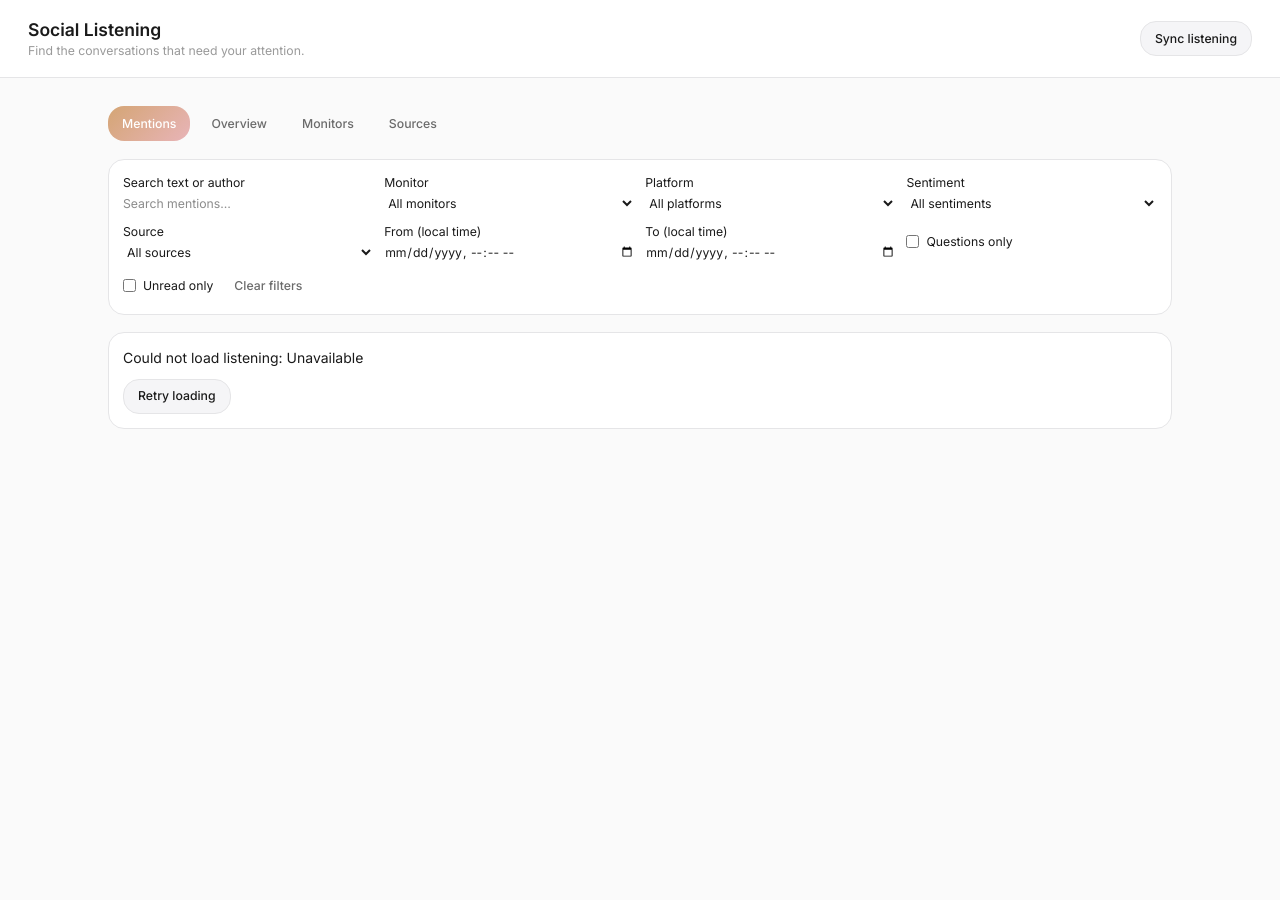
Test: listening workspace › offers fetch retry and shows partial sync stage failures
The width and height of the screenshot is (1280, 900).
Expected: the text "Could not load listening: Unavailable" is shown, x1=123 y1=349 x2=363 y2=366
Step 1. Click the button "Retry loading" → (177, 396), box x1=123 y1=378 x2=231 y2=414
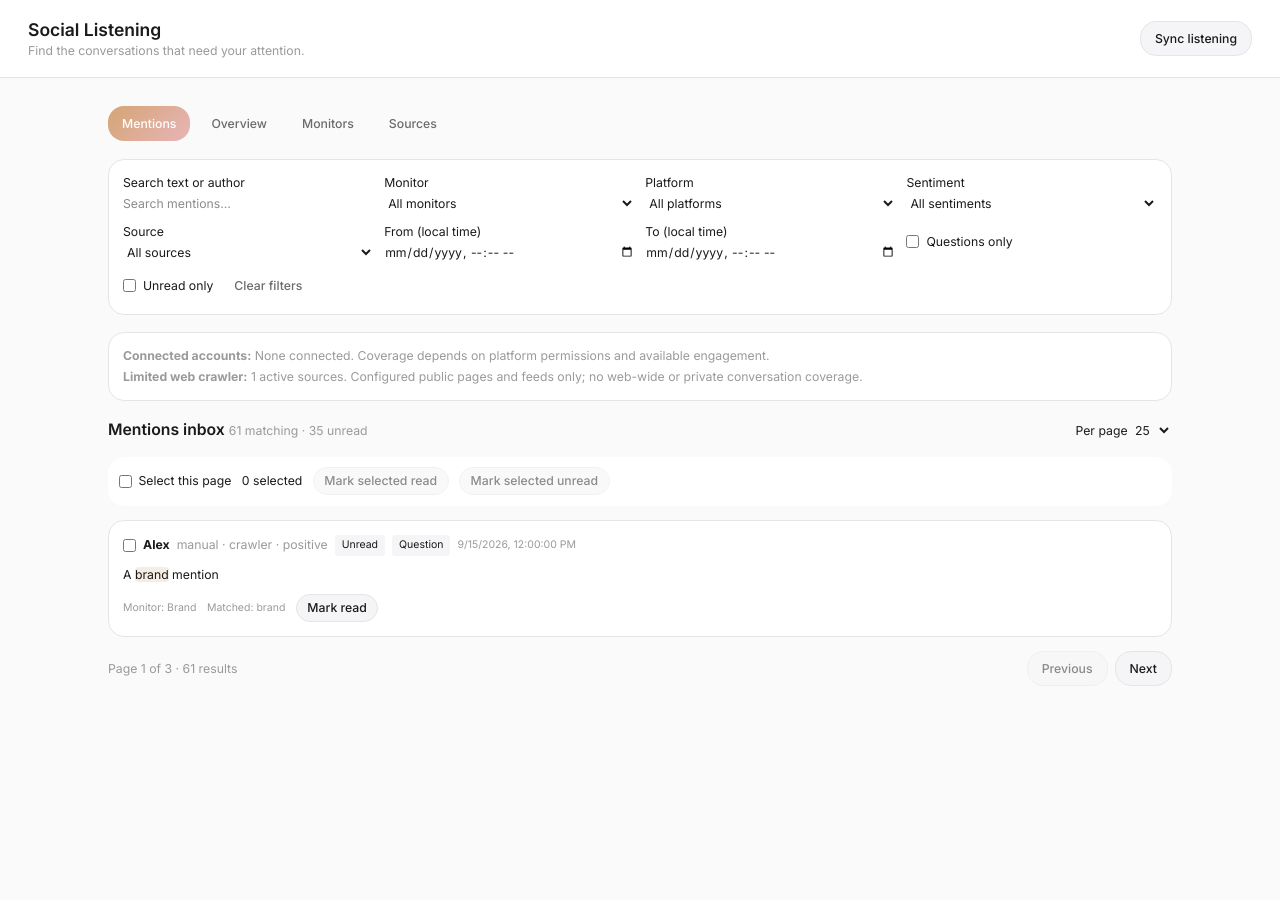
Expected: the text "Alex" is shown, x1=143 y1=536 x2=170 y2=554
Step 2. Click the button "Sync listening" → (1196, 38), box x1=1140 y1=21 x2=1252 y2=56
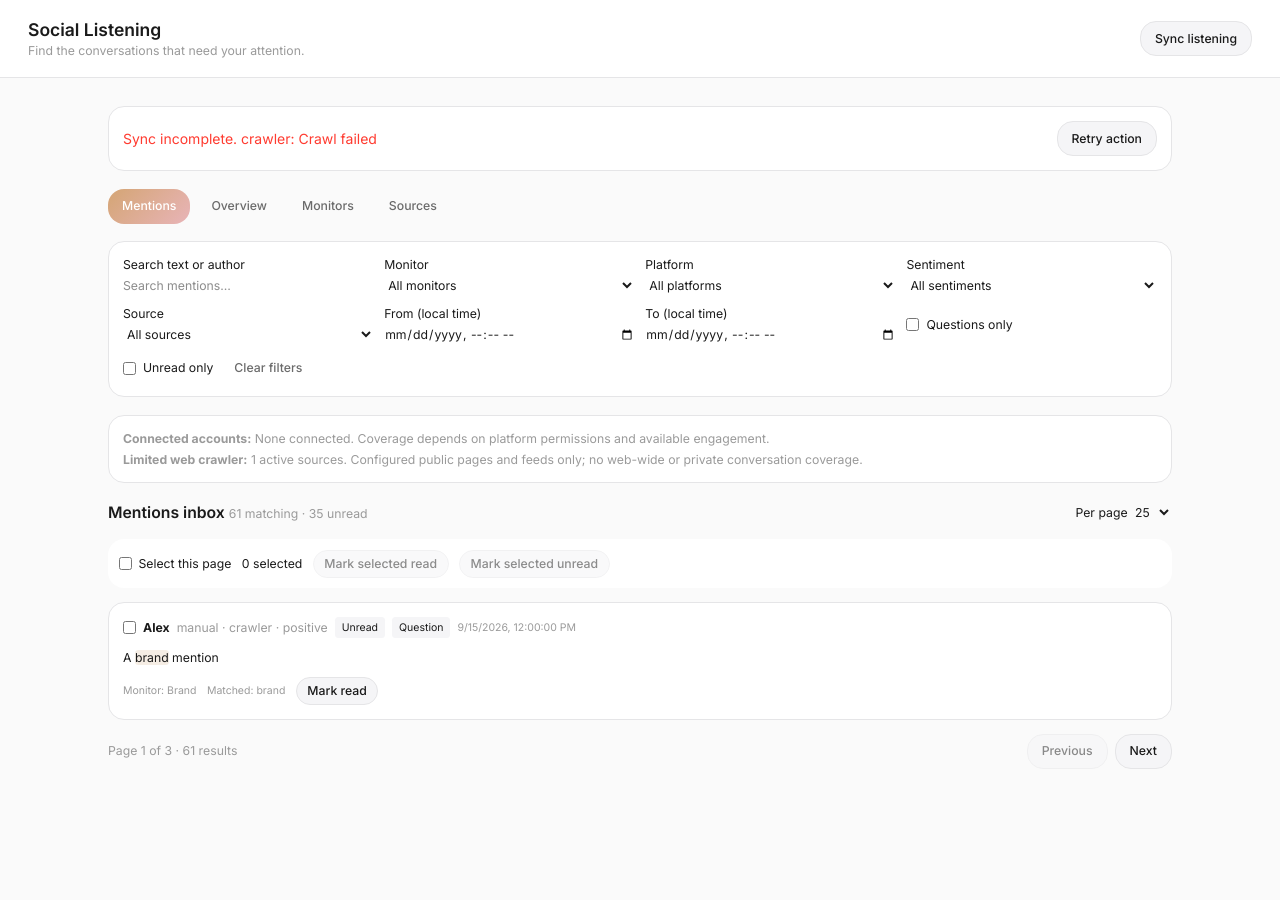
Expected: the text "Sync incomplete. crawler: Crawl failed" is shown, x1=123 y1=128 x2=377 y2=149
